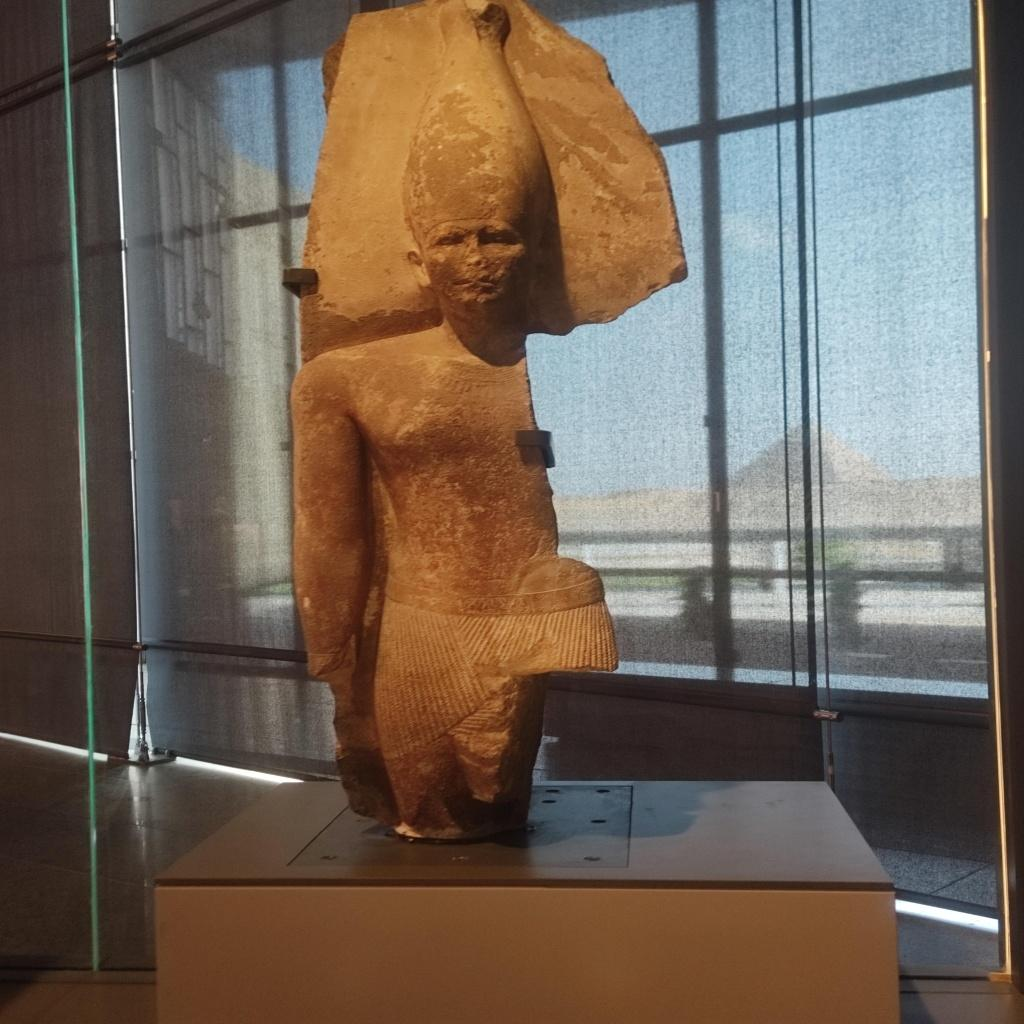Statue of Snefru: (278, 0, 690, 844)
